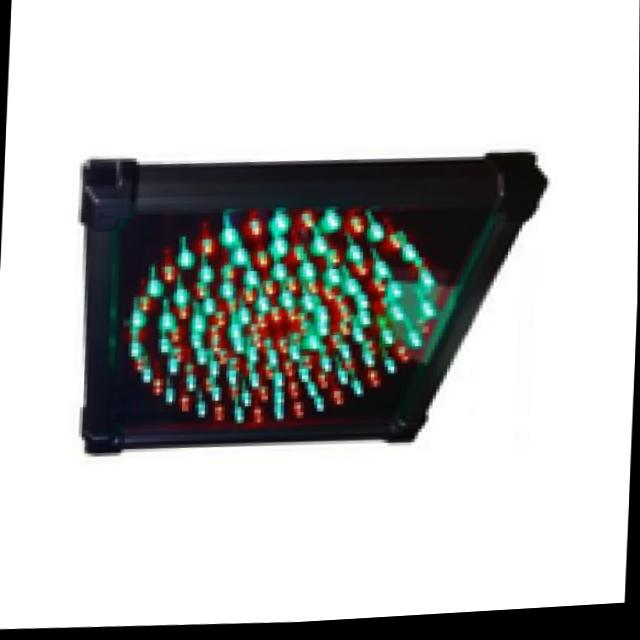green_light: (95, 166, 436, 503)
